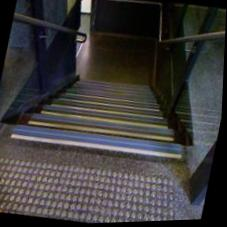Animal: (0, 89, 190, 194)
